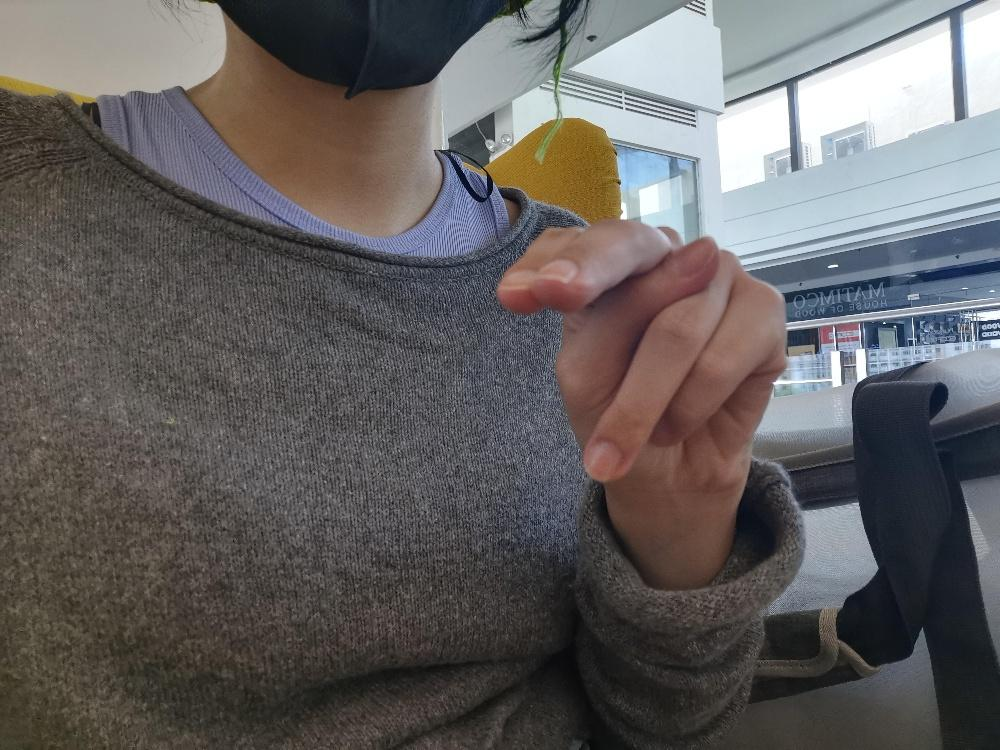n: (492, 215, 789, 495)
